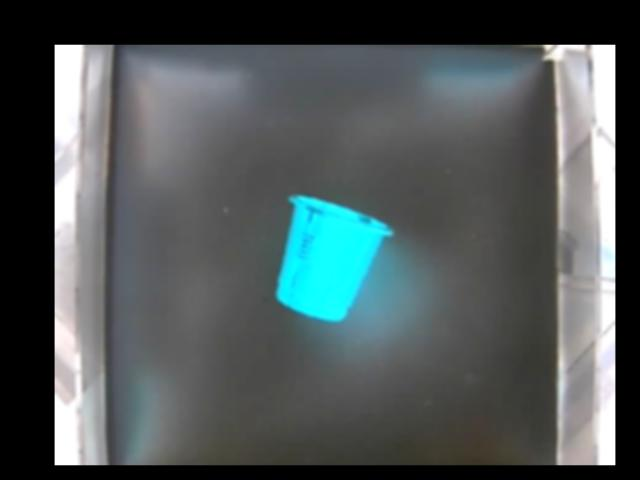Cup: (273, 195, 392, 320)
